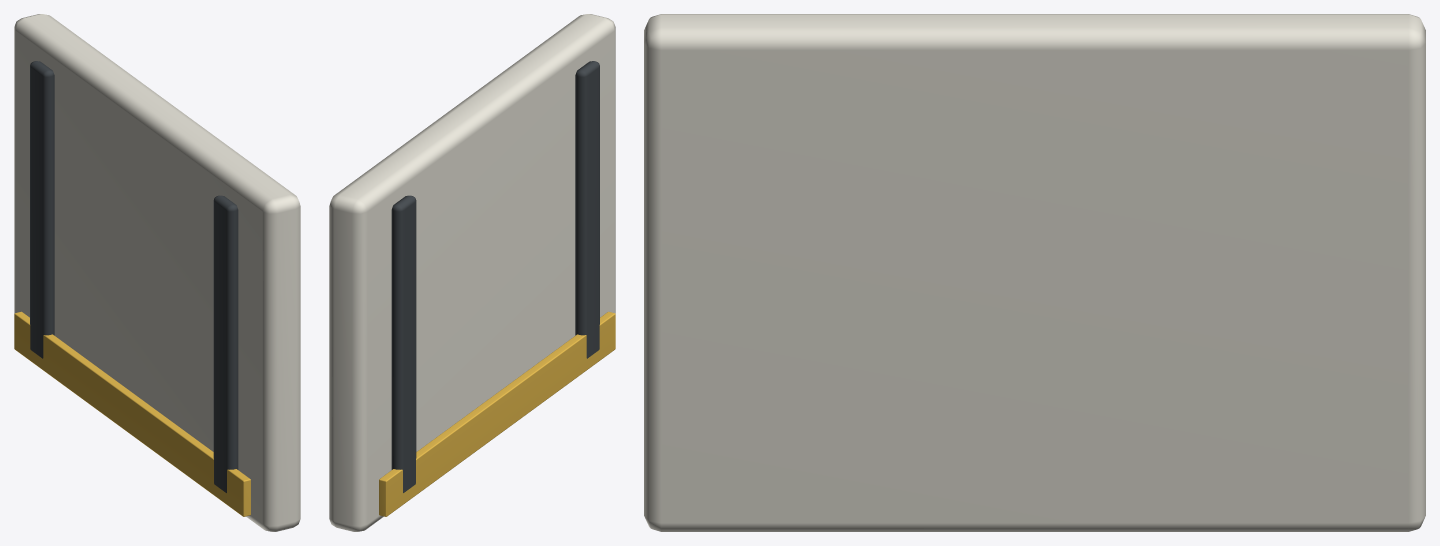
The model's file is SM_AtlasFoundry_Ramp.fbx.
3 views of the same model, side by side, from view 1: azimuth 30°, elevation 25°; view 2: azimuth 150°, elevation 25°; view 3: azimuth 270°, elevation 25° (orthographic). The views are drawn at different scales.
Visible parts, largest first — view 1: SM_AtlasFoundry_Ramp.001; view 2: SM_AtlasFoundry_Ramp.001; view 3: SM_AtlasFoundry_Ramp.001.
Part boxes in pixels (box(x1,y1,x2,y2)): SM_AtlasFoundry_Ramp.001: box(14, 14, 300, 531); SM_AtlasFoundry_Ramp.001: box(329, 14, 615, 531); SM_AtlasFoundry_Ramp.001: box(644, 14, 1425, 531).
Bounding box in the file's own units: 960 × 9000 × 6400.
